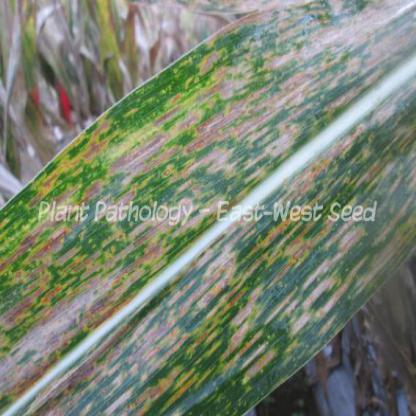corn gray leaf spot: (1, 2, 415, 413)
